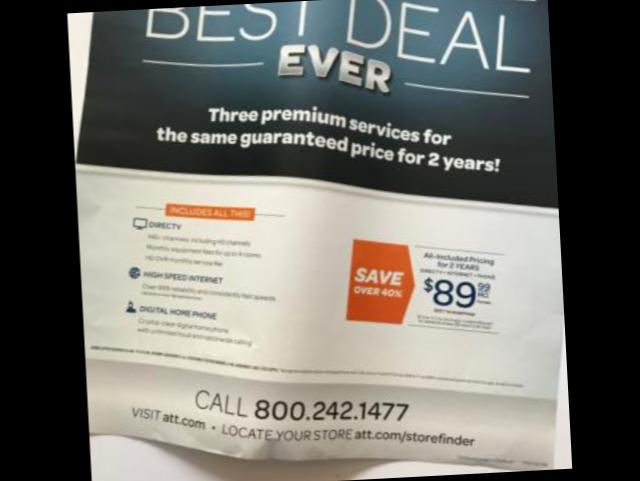cardboard paper: (77, 0, 564, 470)
